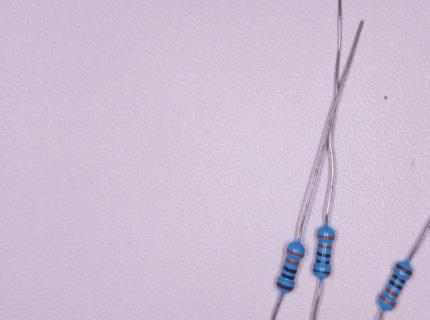Black band: (391, 272, 407, 285), (388, 279, 403, 291), (282, 265, 297, 275), (280, 272, 295, 281), (317, 251, 331, 258), (315, 259, 330, 265)
Brown band: (395, 263, 413, 277), (276, 281, 294, 292), (313, 269, 330, 276)
Orange band: (379, 294, 396, 308), (286, 248, 304, 259), (384, 286, 399, 299), (317, 234, 336, 241), (285, 257, 299, 266), (318, 244, 332, 250)
